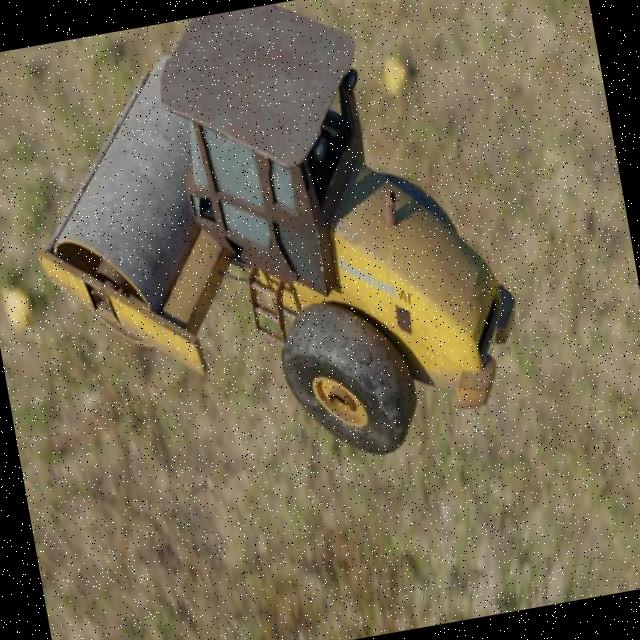Roller: (1, 0, 538, 508)
